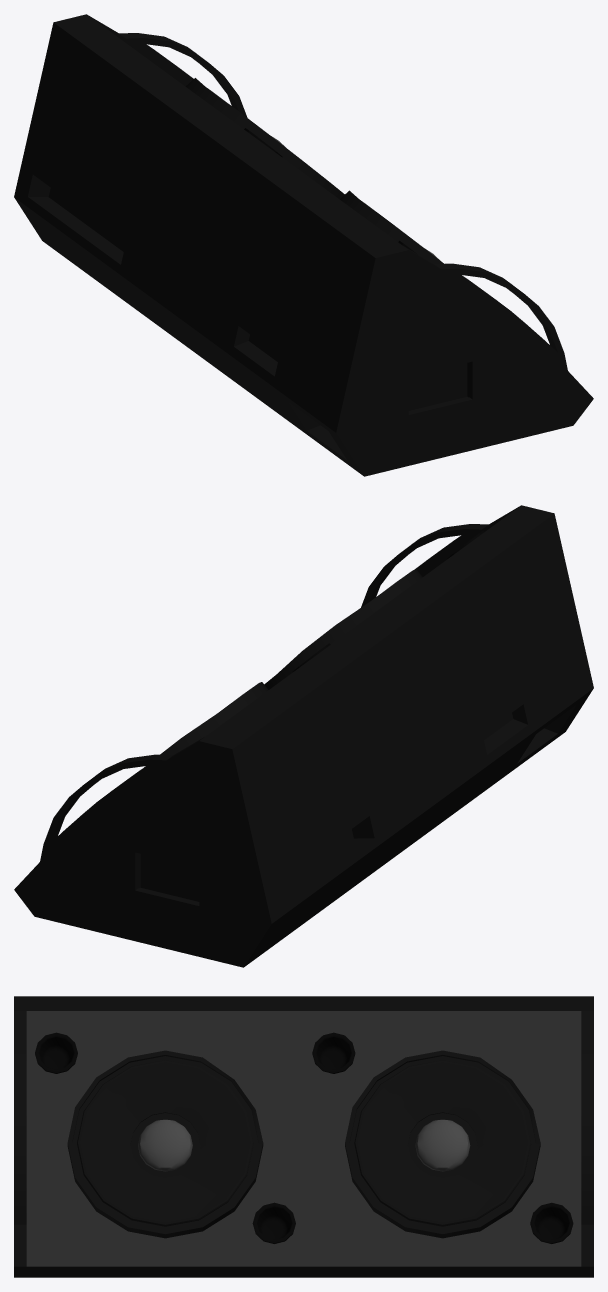
File: Venue_Speaker_02.glb
3 renders of one model, top to bottom at view 1: azimuth 30°, elevation 25°; view 2: azimuth 150°, elevation 25°; view 3: azimuth 270°, elevation 25°, orthographic. The views are drawn at different scales.
Parts seen in each view (by area): view 1: Mesh_Venue_Speaker_02; view 2: Mesh_Venue_Speaker_02; view 3: Mesh_Venue_Speaker_02.
Part boxes in pixels (x1,y1,x2,y2): Mesh_Venue_Speaker_02: (14, 14, 593, 476); Mesh_Venue_Speaker_02: (14, 505, 593, 967); Mesh_Venue_Speaker_02: (14, 996, 593, 1277).
Size of the model in its own units: 0.5313 by 0.425 by 1.15.
1 material, 1 textured.
